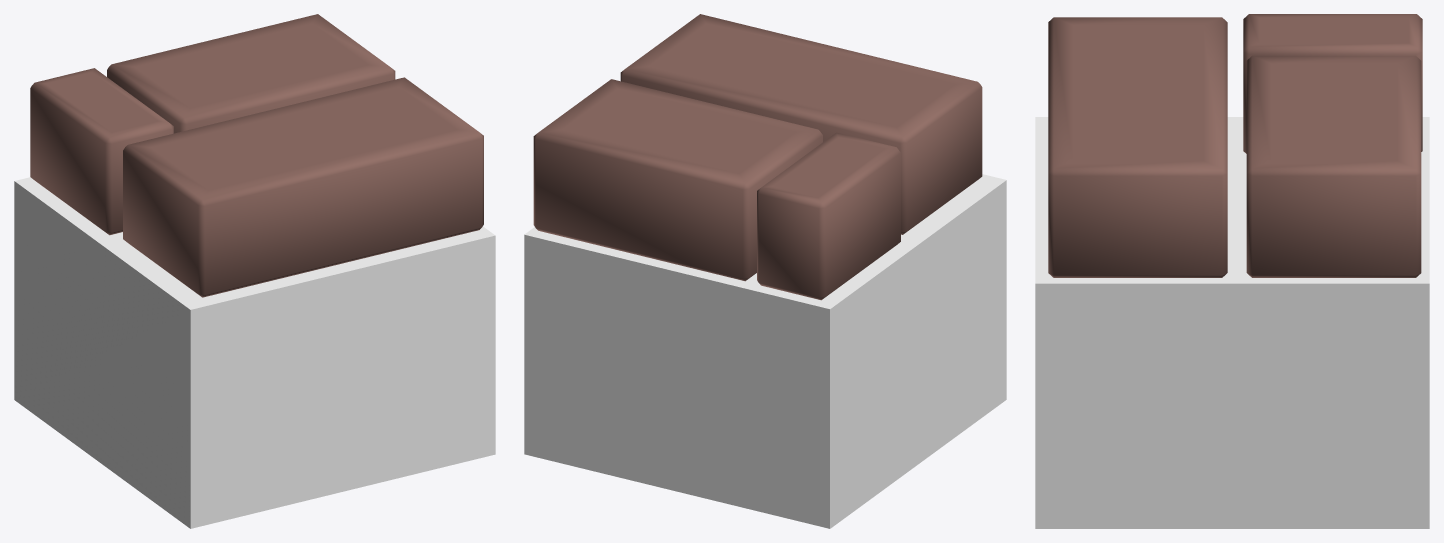
The model's file is Floor23.fbx.
3 renders of one model, left to right at view 1: azimuth 30°, elevation 25°; view 2: azimuth 150°, elevation 25°; view 3: azimuth 270°, elevation 25°, orthographic. The views are drawn at different scales.
Parts seen in each view (by area): view 1: Cube.293; view 2: Cube.293; view 3: Cube.293.
Boxes of the visible parts, <box> form: Cube.293: <box>14,14,495,528</box>; Cube.293: <box>524,14,1006,528</box>; Cube.293: <box>1035,14,1429,528</box>.
Bounding box in the file's own units: 100 × 99.65 × 100.
